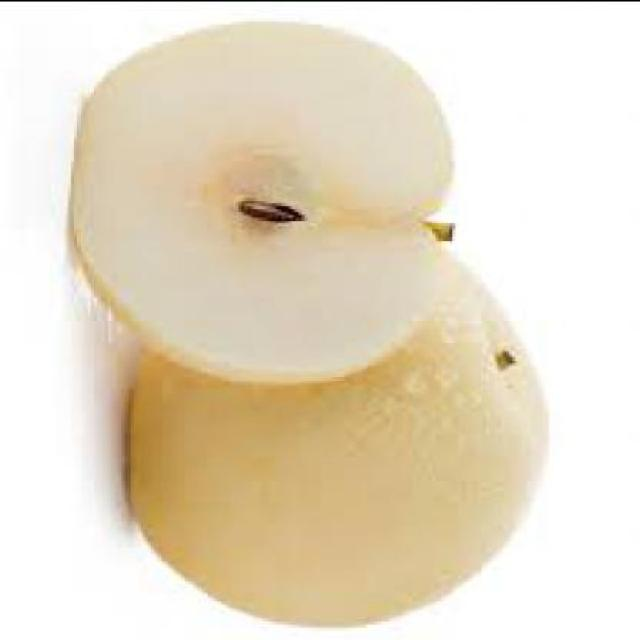BIODEGRADABLE: (129, 260, 543, 626), (75, 28, 454, 383), (240, 199, 310, 223)
